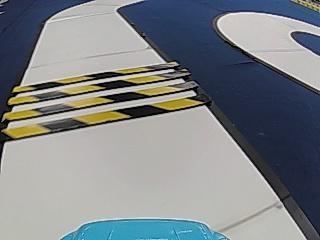bump: (3, 60, 211, 144)
